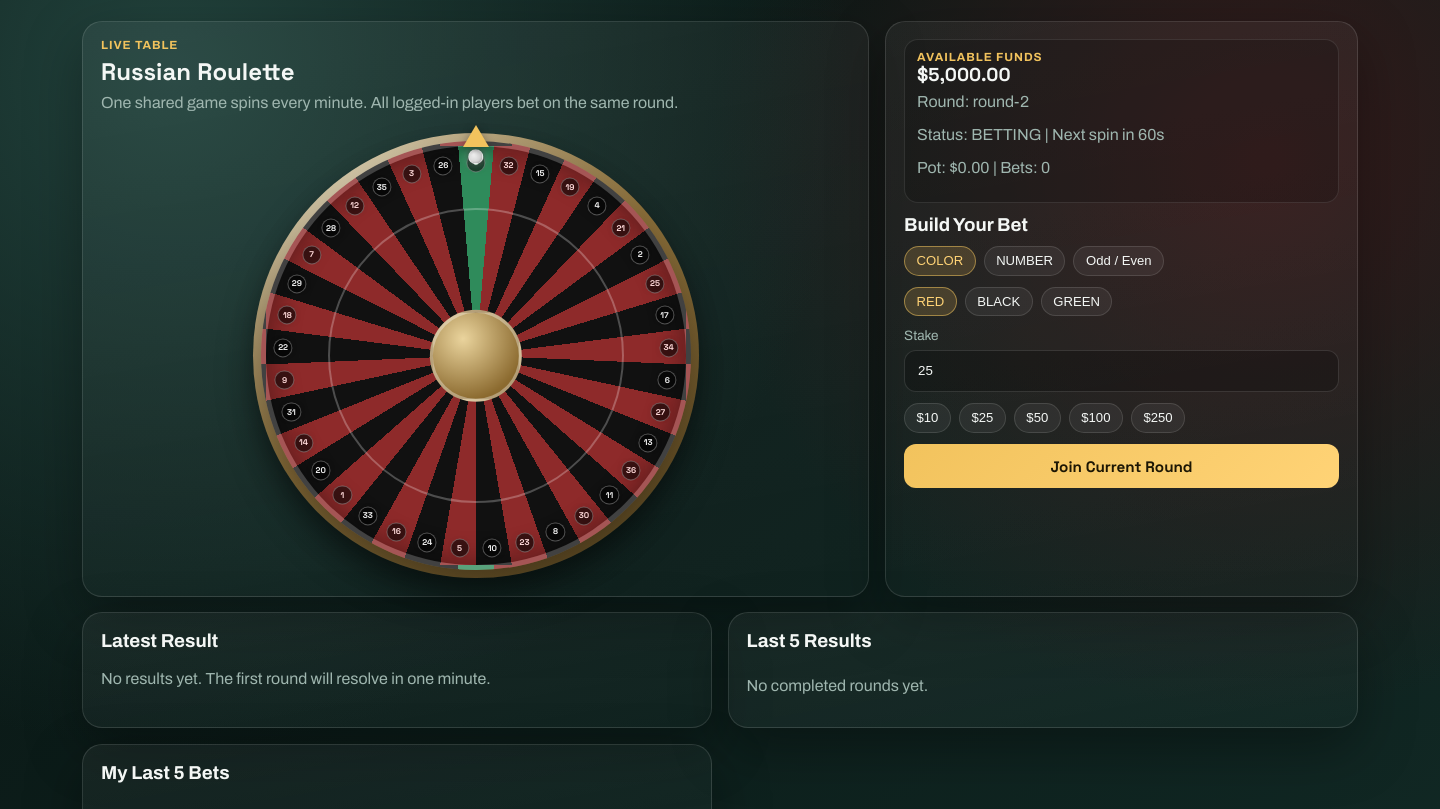
it: GameDetailPage › validates stake input before sending placeBet mutation
Expected: the button "Join Current Round" is enabled, x1=904 y1=444 x2=1339 y2=488
Replace the text in the number field labelled "Stake" with "0" at x=1122, y=371, box x1=904 y1=350 x2=1339 y2=392
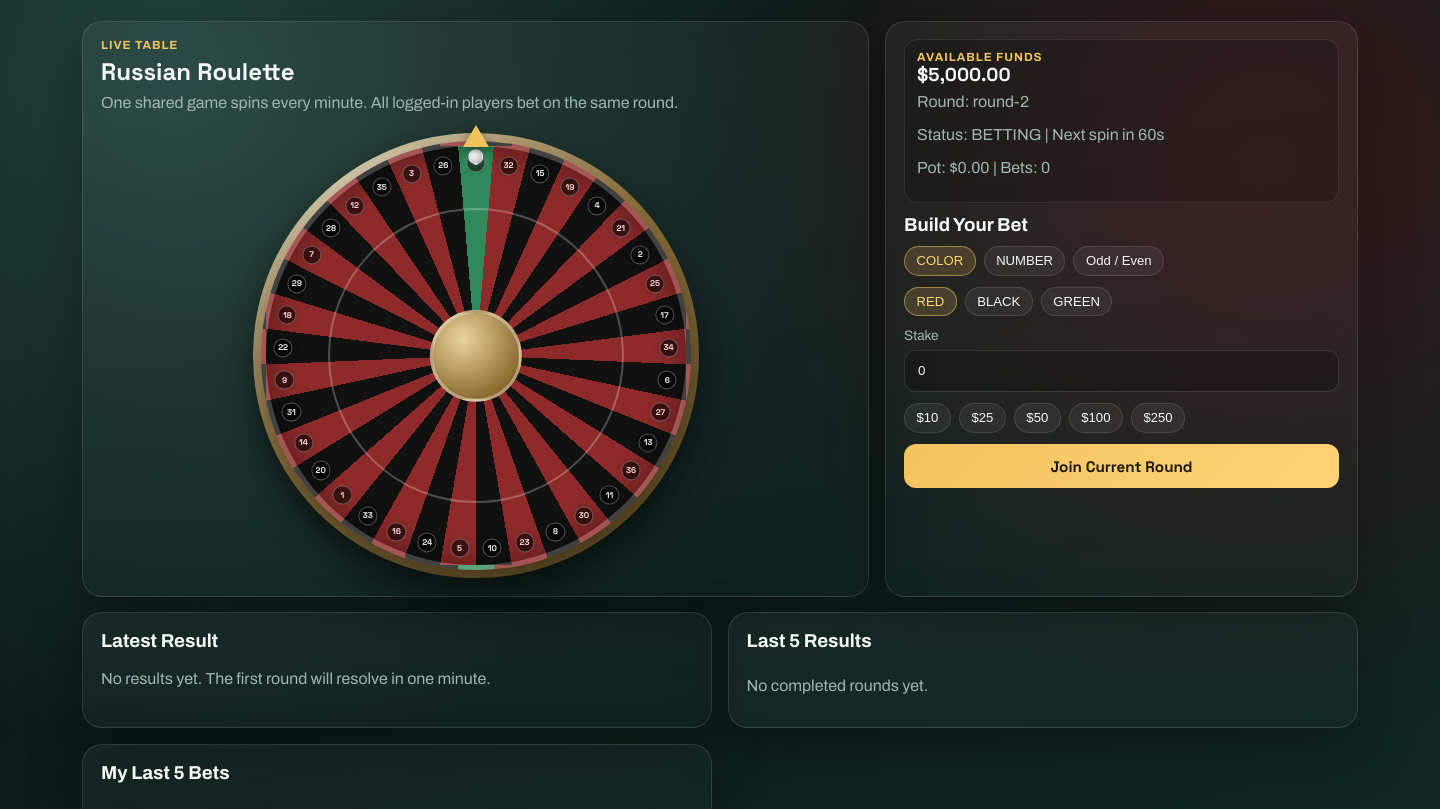
Click the button "Join Current Round" at x=1122, y=466, box x1=904 y1=444 x2=1339 y2=488
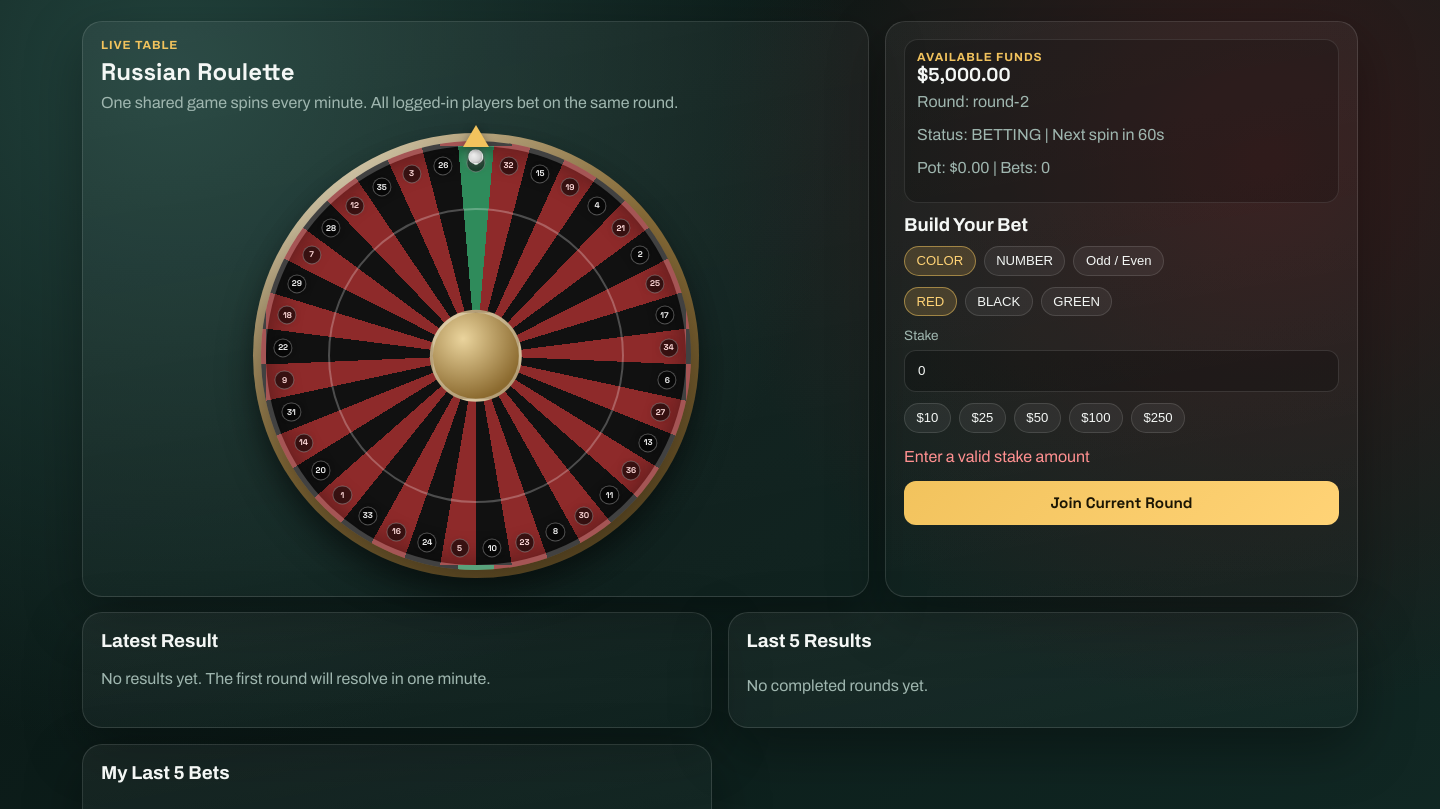
Expected: the text "Enter a valid stake amount" is shown, x1=904 y1=448 x2=1090 y2=465
